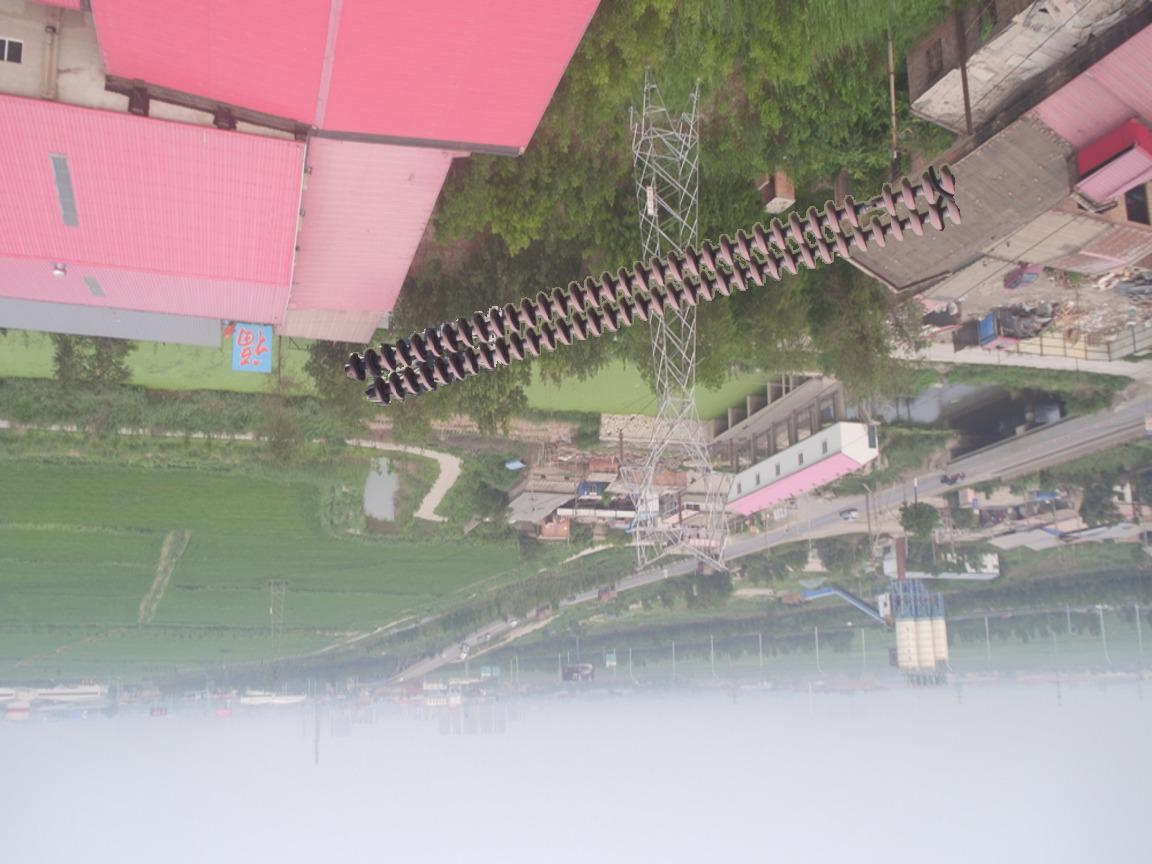insulator: (345, 162, 965, 409)
insulator_stringdrop: (841, 180, 900, 230)
